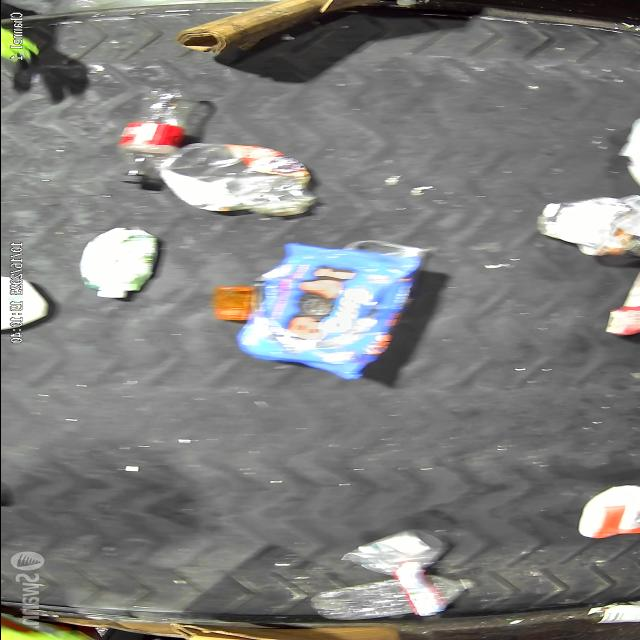can: (335, 529, 449, 578), (581, 602, 640, 626), (602, 305, 640, 337)
plastic_bottle: (157, 140, 319, 218), (304, 572, 474, 624), (112, 88, 200, 185)
